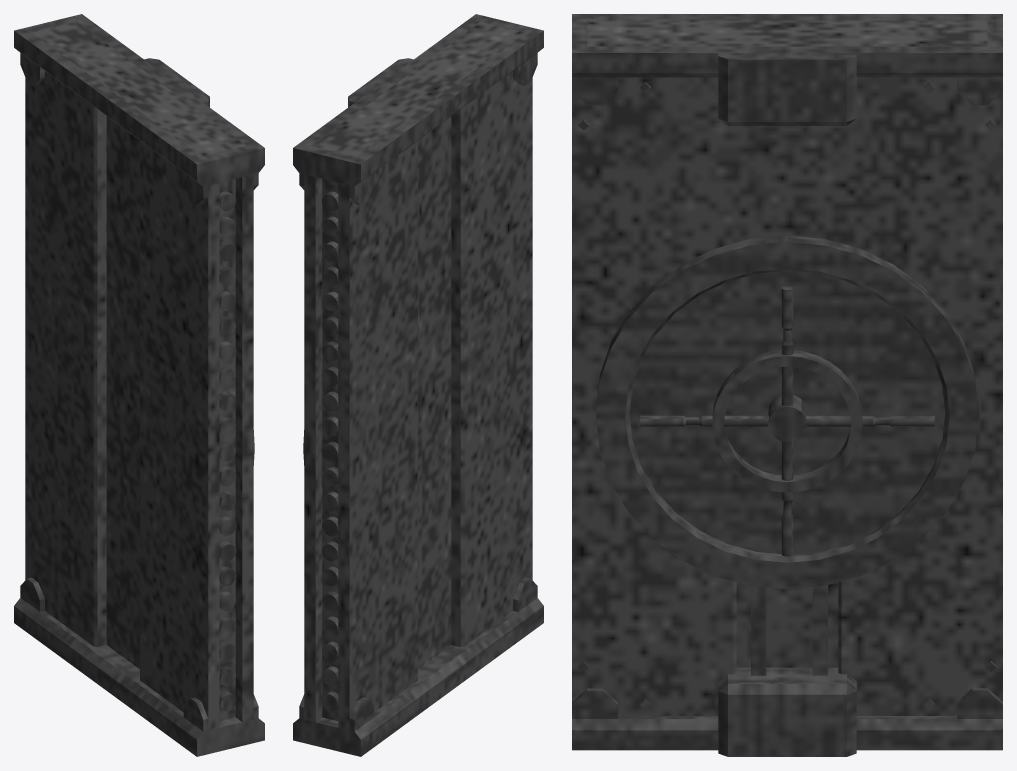
File: ChamberDoor.fbx
3 renders of one model, left to right at view 1: azimuth 30°, elevation 25°; view 2: azimuth 150°, elevation 25°; view 3: azimuth 270°, elevation 25°, orthographic. The views are drawn at different scales.
Parts seen in each view (by area): view 1: Door; view 2: Door; view 3: Door, Hatch, Lock.
Boxes of the visible parts, x1,y1,x2,y2 form: Door: (14, 14, 264, 756); Door: (293, 14, 543, 756); Door: (572, 14, 1002, 756); Hatch: (640, 286, 934, 556); Lock: (751, 585, 827, 675).
Size of the model in its own units: 45.89 by 313 by 175.
